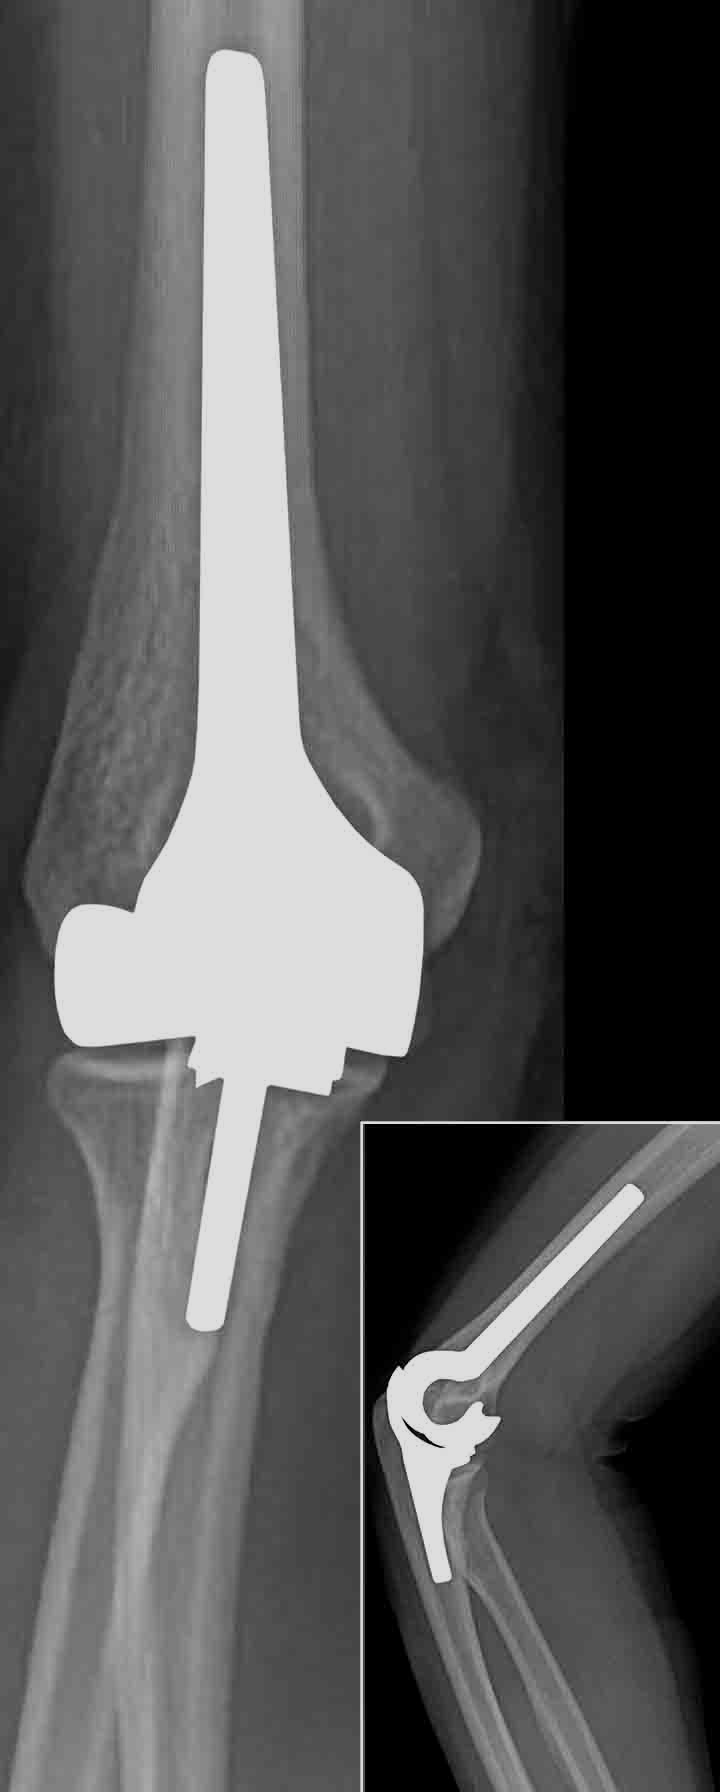Elbow - IBP - Biomet: (29, 23, 454, 1354), (377, 1159, 645, 1605)
